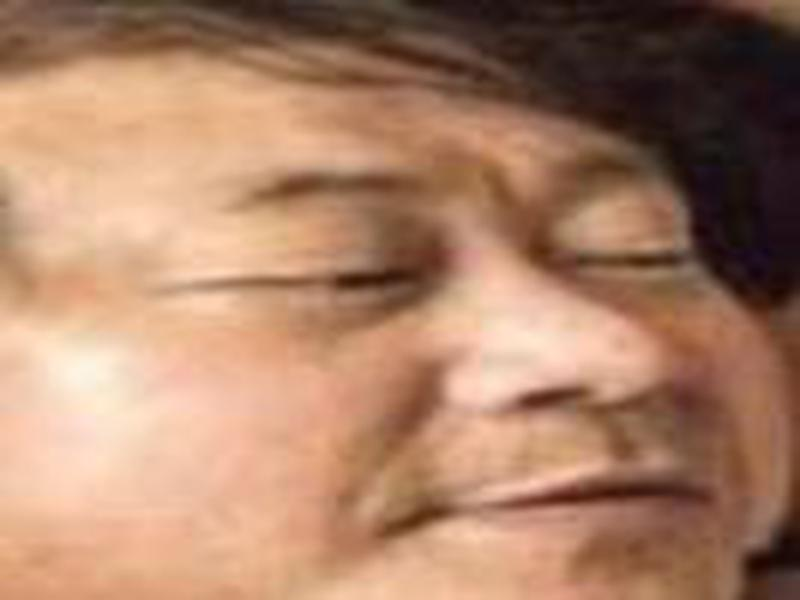without_mask: (4, 40, 782, 600)
